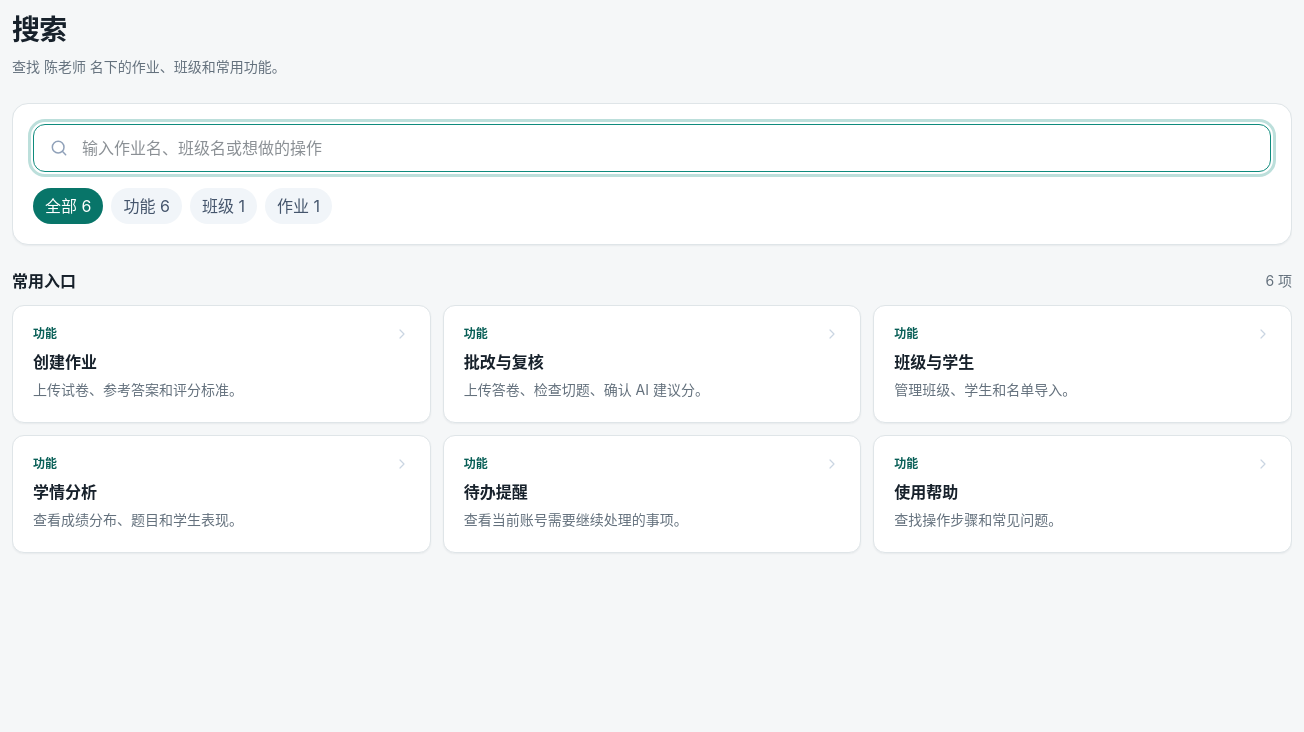
Test case: shows concise common actions before searching and searches account data by multiple fields
This screenshot has width=1304, height=732.
Expected: the heading "常用入口" is shown, top-left (12, 269), bottom-right (76, 293)
Expected: the heading "创建作业" is shown, top-left (33, 352), bottom-right (97, 372)
Type "高一 数学" into the field with placeholder "输入作业名、班级名或想做的操作" at {"x": 652, "y": 148}, box top-left (33, 124), bottom-right (1271, 172)
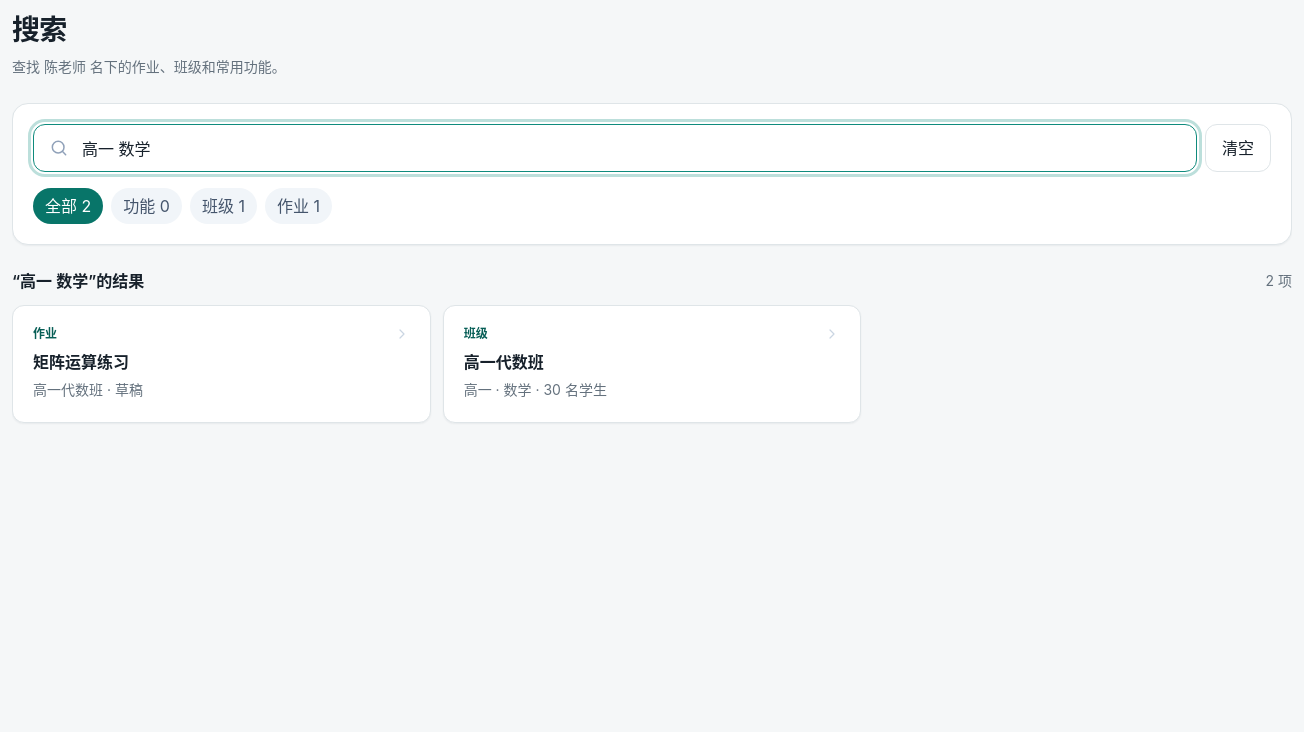
Now the heading "高一代数班" is shown, box top-left (464, 352), bottom-right (544, 372)
Now the heading "矩阵运算练习" is shown, box top-left (33, 352), bottom-right (129, 372)
